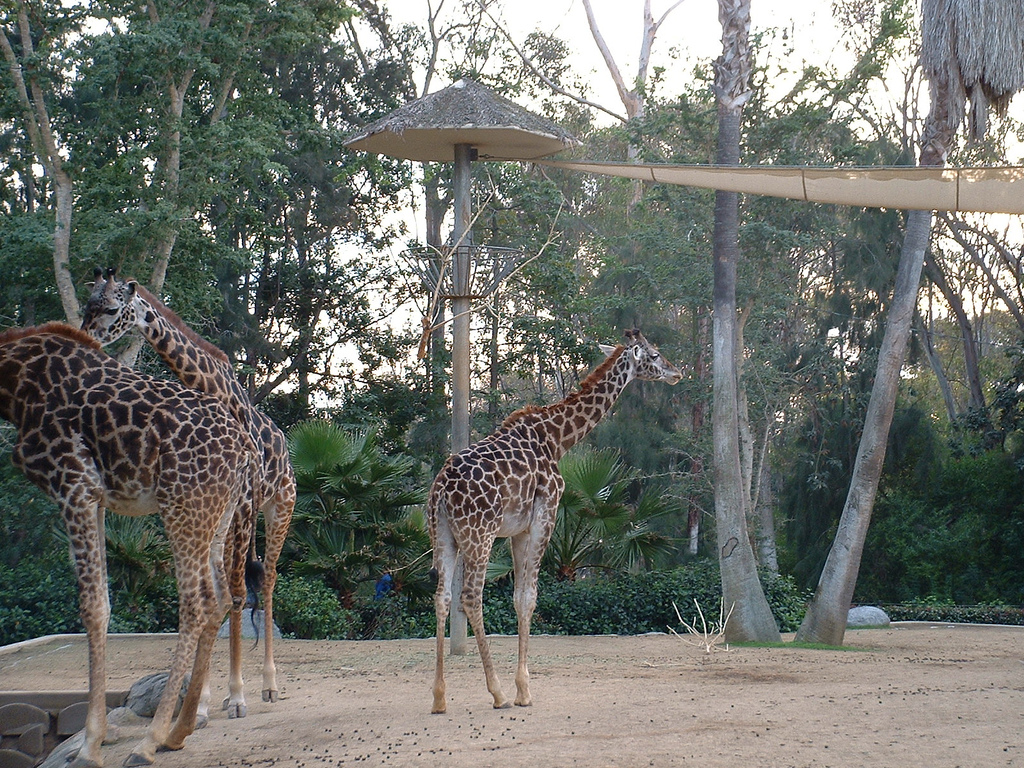giraffe: (411, 315, 678, 712), (13, 334, 262, 715), (73, 256, 309, 463)
